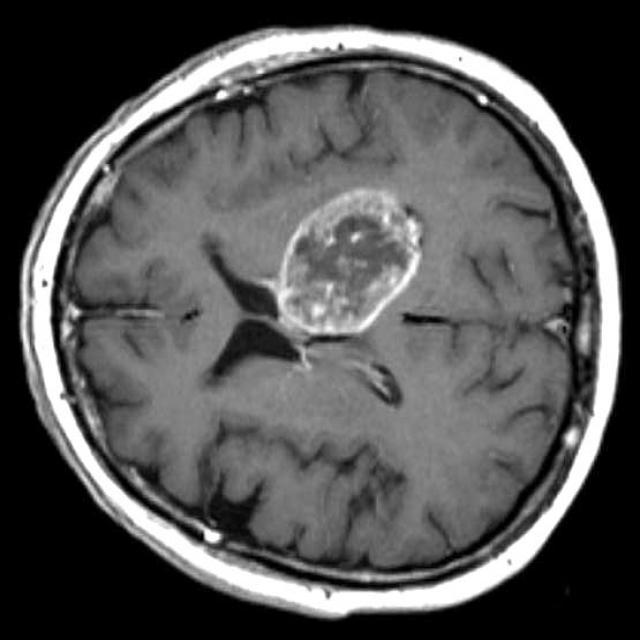tumor: (277, 186, 426, 342)
